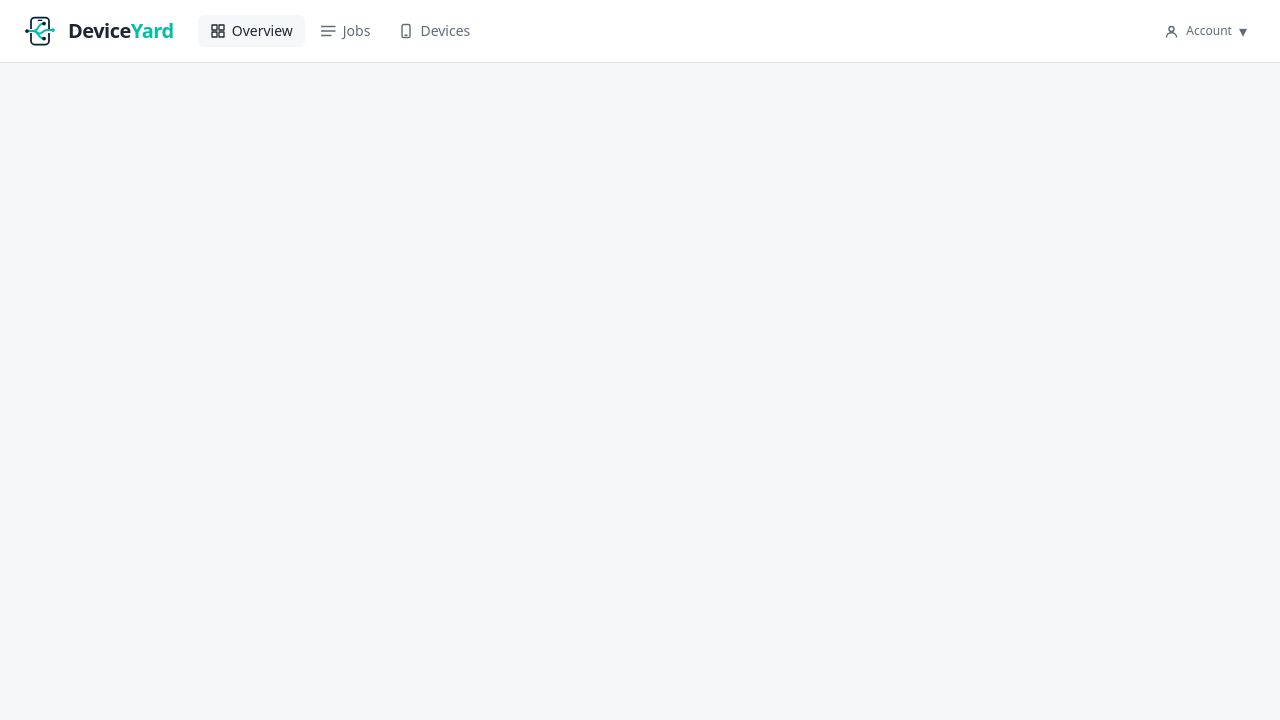
Test: account menu groups resources and links to formatted API documentation
What coordinates should you click on to do the following:
click the button with aria-label "account menu"
I would click on:
 (1206, 31)
Its box is x1=1155 y1=10 x2=1256 y2=52.
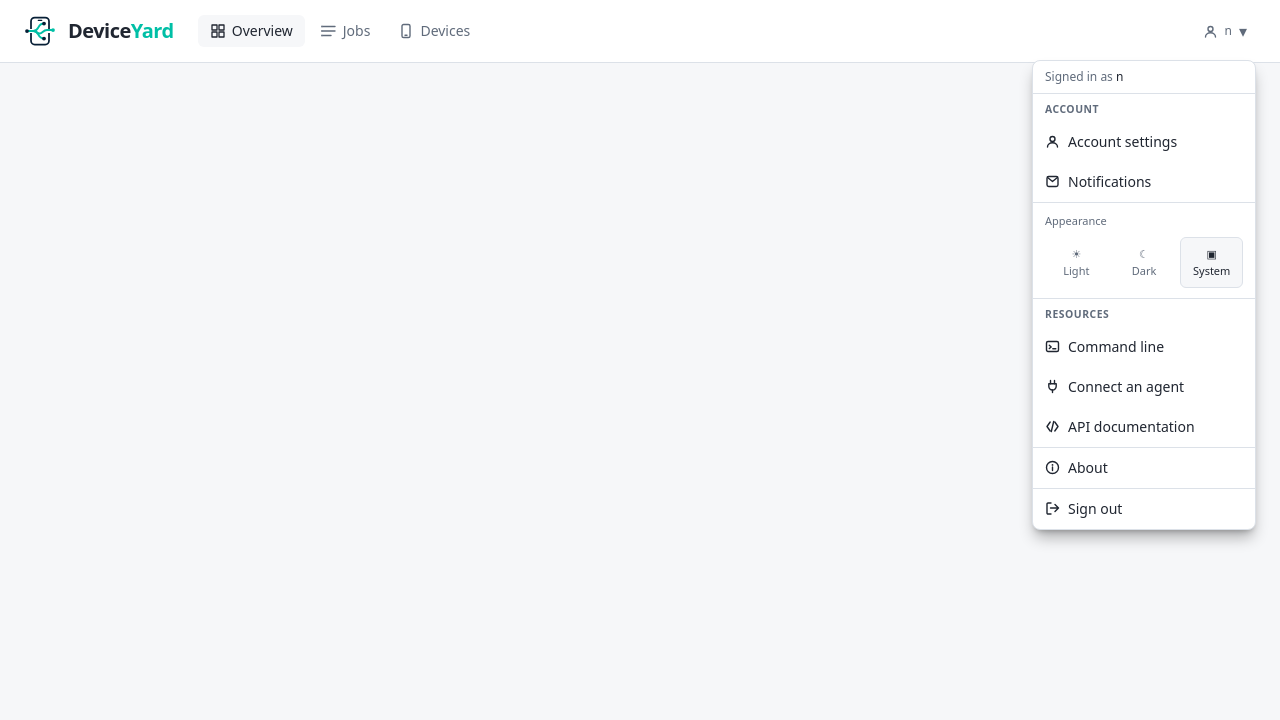
Expected: the element "Account" is shown, x1=1045 y1=102 x2=1177 y2=191
Expected: the element "Resources" is shown, x1=1033 y1=298 x2=1255 y2=447
